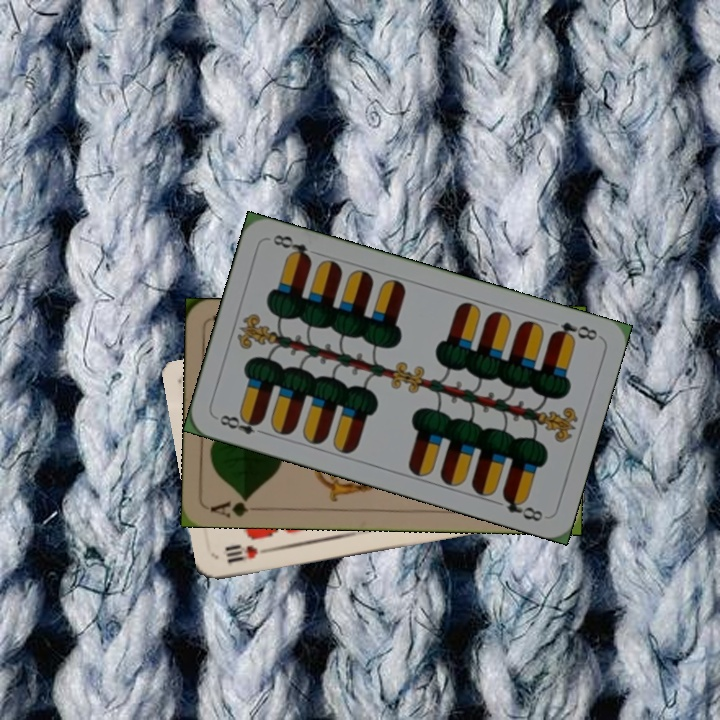E8: (215, 410, 270, 438), (548, 318, 600, 344)
GA: (206, 492, 253, 519)
H10: (220, 541, 276, 566)
